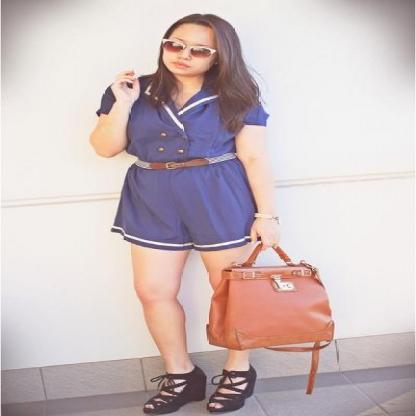bag: (206, 263, 334, 351)
dress: (96, 85, 268, 251)
shoe: (143, 364, 256, 415)
sunglass: (158, 42, 222, 67)
